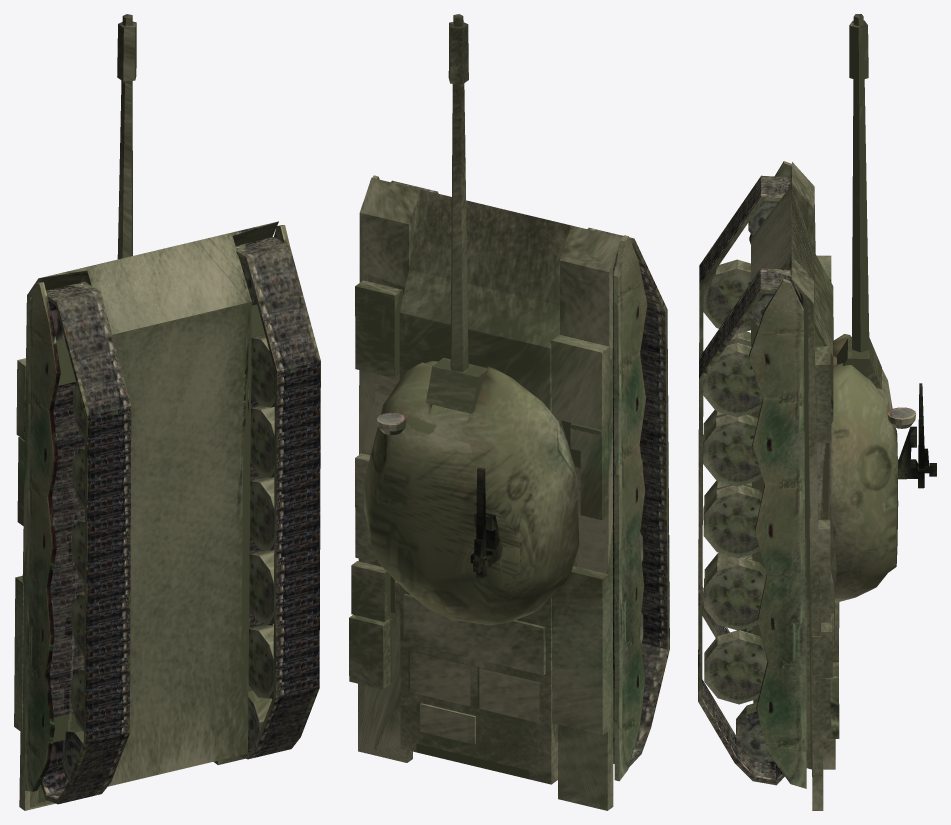
3 renders of one model, left to right at view 1: azimuth 30°, elevation 25°; view 2: azimuth 150°, elevation 25°; view 3: azimuth 270°, elevation 25°, orthographic. The views are drawn at different scales.
Visible parts, largest first — view 1: T69-Body, T69.Turret; view 2: T69-Body, T69.Turret; view 3: T69-Body, T69.Turret.
Boxes of the visible parts, x1,y1,x2,y2 form: T69-Body: (14,221,320,810); T69.Turret: (117,14,136,259); T69-Body: (349,175,669,810); T69.Turret: (364,14,579,625); T69-Body: (698,161,839,810); T69.Turret: (827,14,936,602).
Bounding box in the file's own units: 2675 × 7701 × 2254.
1 material, 1 textured.
